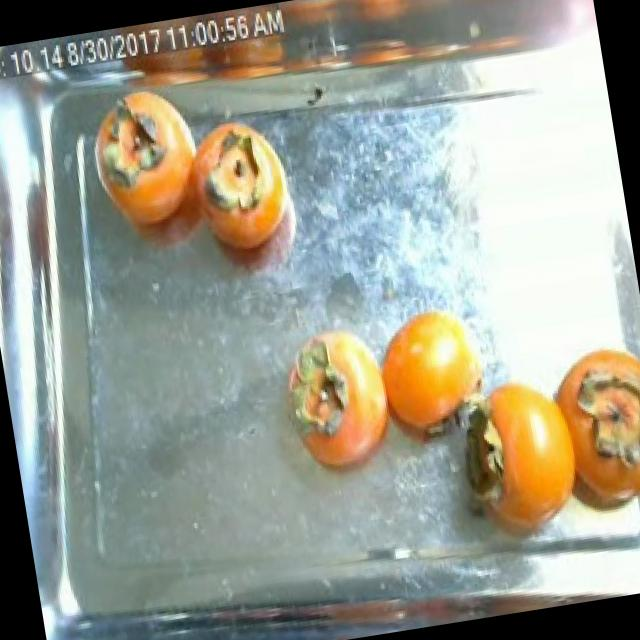Fruit: (360, 287, 504, 453), (184, 102, 306, 245)
